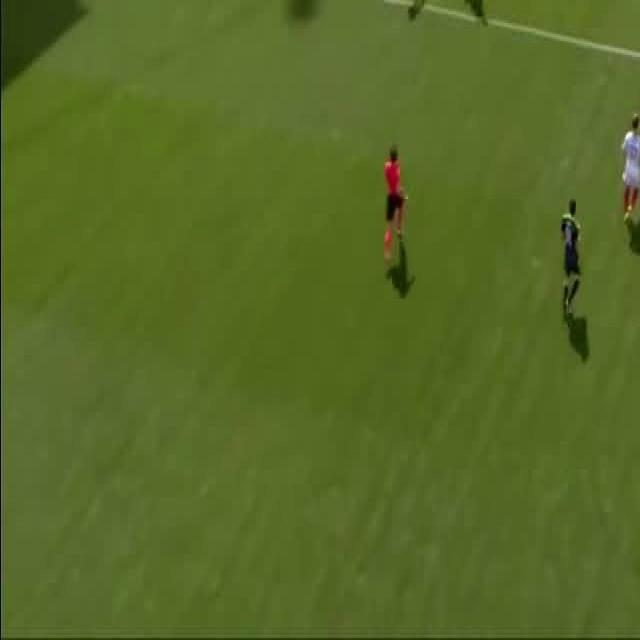player-white: (559, 197, 581, 325), (384, 144, 406, 261), (620, 114, 640, 226), (403, 0, 430, 4), (463, 0, 483, 4)
